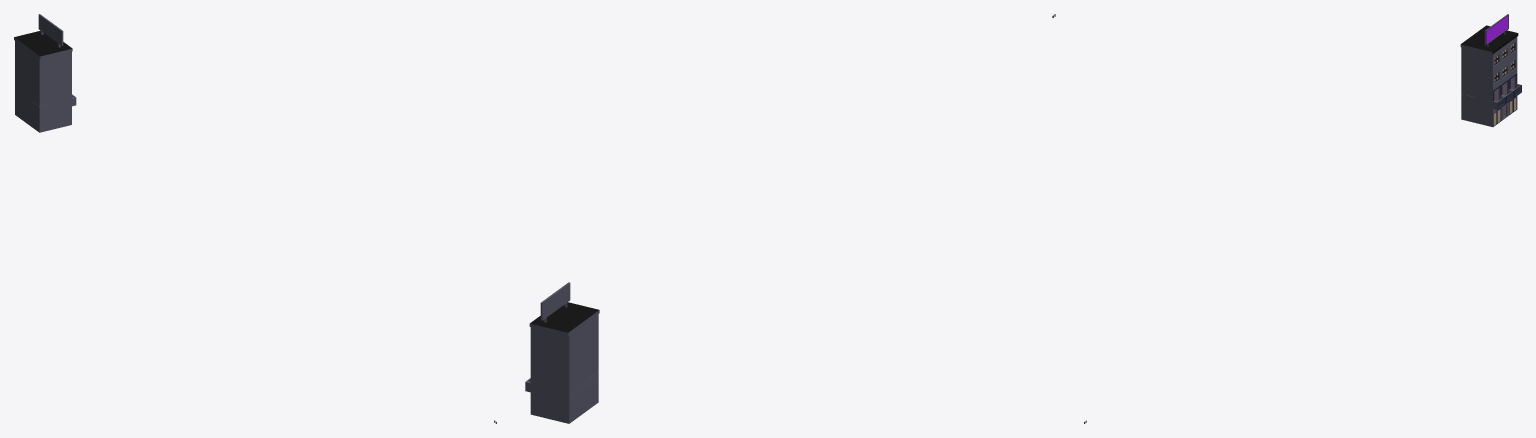
The model's file is sample.fbx.
The picture shows the model from 3 angles, left to right: view 1: azimuth 30°, elevation 25°; view 2: azimuth 150°, elevation 25°; view 3: azimuth 330°, elevation 25°; orthographic projection. The views are drawn at different scales.
Parts seen in each view (by area): view 1: Cube.018; view 2: Cube.018; view 3: Cube.018.
Boxes of the visible parts, x1,y1,x2,y2 form: Cube.018: [14, 14, 496, 423]; Cube.018: [525, 14, 1055, 423]; Cube.018: [1084, 14, 1521, 423].
Size of the model in its own units: 301 by 733 by 6215.
